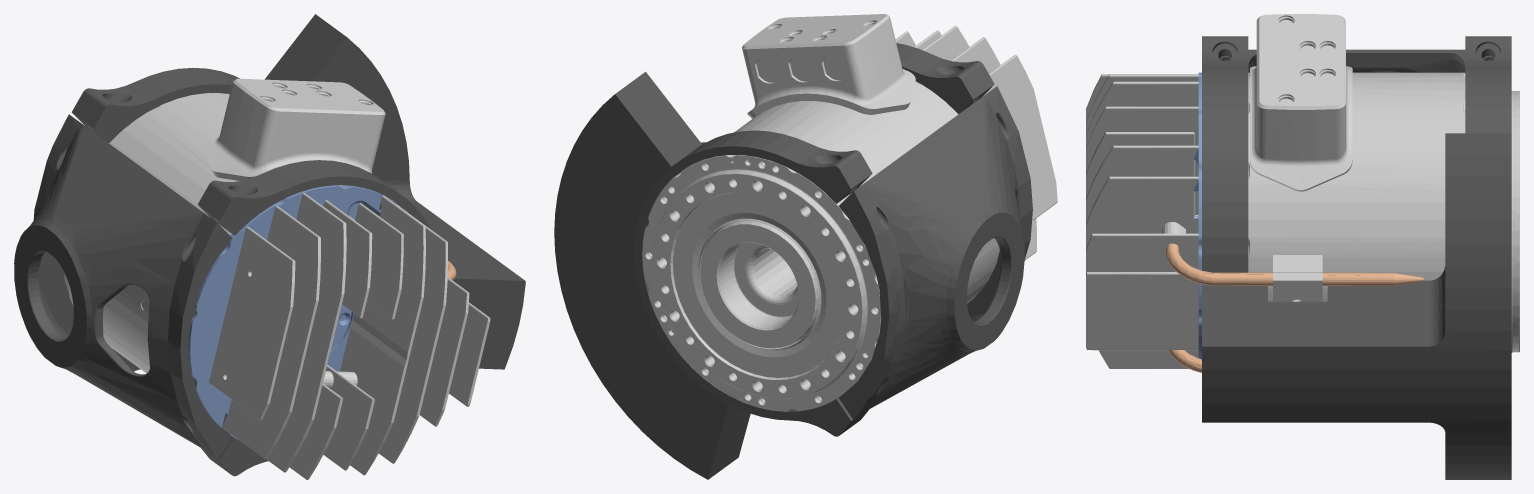
Rendered from anymal_hip_l.dae.
3 renders of one model, left to right at view 1: azimuth 30°, elevation 25°; view 2: azimuth 150°, elevation 25°; view 3: azimuth 270°, elevation 25°, orthographic. The views are drawn at different scales.
Visible parts, largest first — view 1: _42196_00-ASM_ANYmal_hip_left_EDI_001, _42196_00-ASM_ANYmal_hip_left_EDI_002, _42196_00-ASM_ANYmal_hip_left_EDI_005, _42196_00-ASM_ANYmal_hip_left_EDI_004, _42196_00-ASM_ANYmal_hip_left_EDI_001_001, _42196_00-ASM_ANYmal_hip_left_EDI_003; view 2: _42196_00-ASM_ANYmal_hip_left_EDI_001, _42196_00-ASM_ANYmal_hip_left_EDI_002, _42196_00-ASM_ANYmal_hip_left_EDI_004, _42196_00-ASM_ANYmal_hip_left_EDI_005, _42196_00-ASM_ANYmal_hip_left_EDI_003, _42196_00-ASM_ANYmal_hip_left_EDI_001_001; view 3: _42196_00-ASM_ANYmal_hip_left_EDI_001, _42196_00-ASM_ANYmal_hip_left_EDI_004, _42196_00-ASM_ANYmal_hip_left_EDI_005, _42196_00-ASM_ANYmal_hip_left_EDI_001_001, _42196_00-ASM_ANYmal_hip_left_EDI_003, _42196_00-ASM_ANYmal_hip_left_EDI_006, _42196_00-ASM_ANYmal_hip_left_EDI_002, _42196_00-ASM_ANYmal_hip_left_EDI_007.
Part boxes in pixels (x1,y1,x2,y2): _42196_00-ASM_ANYmal_hip_left_EDI_001: [63, 93, 490, 479]; _42196_00-ASM_ANYmal_hip_left_EDI_002: [14, 114, 232, 459]; _42196_00-ASM_ANYmal_hip_left_EDI_005: [206, 78, 385, 180]; _42196_00-ASM_ANYmal_hip_left_EDI_004: [265, 14, 525, 369]; _42196_00-ASM_ANYmal_hip_left_EDI_001_001: [197, 160, 430, 476]; _42196_00-ASM_ANYmal_hip_left_EDI_003: [71, 68, 239, 371]; _42196_00-ASM_ANYmal_hip_left_EDI_001: [642, 25, 1057, 411]; _42196_00-ASM_ANYmal_hip_left_EDI_002: [839, 86, 1032, 420]; _42196_00-ASM_ANYmal_hip_left_EDI_004: [554, 71, 750, 479]; _42196_00-ASM_ANYmal_hip_left_EDI_005: [742, 14, 915, 118]; _42196_00-ASM_ANYmal_hip_left_EDI_003: [634, 130, 872, 436]; _42196_00-ASM_ANYmal_hip_left_EDI_001_001: [896, 43, 994, 113]; _42196_00-ASM_ANYmal_hip_left_EDI_001: [1086, 72, 1519, 368]; _42196_00-ASM_ANYmal_hip_left_EDI_004: [1202, 133, 1511, 479]; _42196_00-ASM_ANYmal_hip_left_EDI_005: [1250, 14, 1352, 191]; _42196_00-ASM_ANYmal_hip_left_EDI_001_001: [1202, 36, 1248, 272]; _42196_00-ASM_ANYmal_hip_left_EDI_003: [1465, 36, 1511, 133]; _42196_00-ASM_ANYmal_hip_left_EDI_006: [1166, 243, 1423, 372]; _42196_00-ASM_ANYmal_hip_left_EDI_002: [1219, 49, 1493, 72]; _42196_00-ASM_ANYmal_hip_left_EDI_007: [1273, 255, 1322, 301].
Bounding box in the file's own units: 0.1415 × 0.131 × 0.1425.
